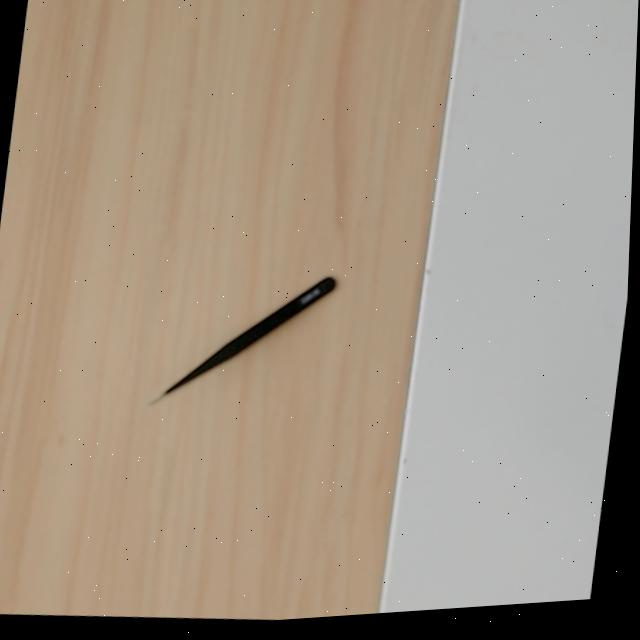Tweezers: (141, 269, 340, 410)
